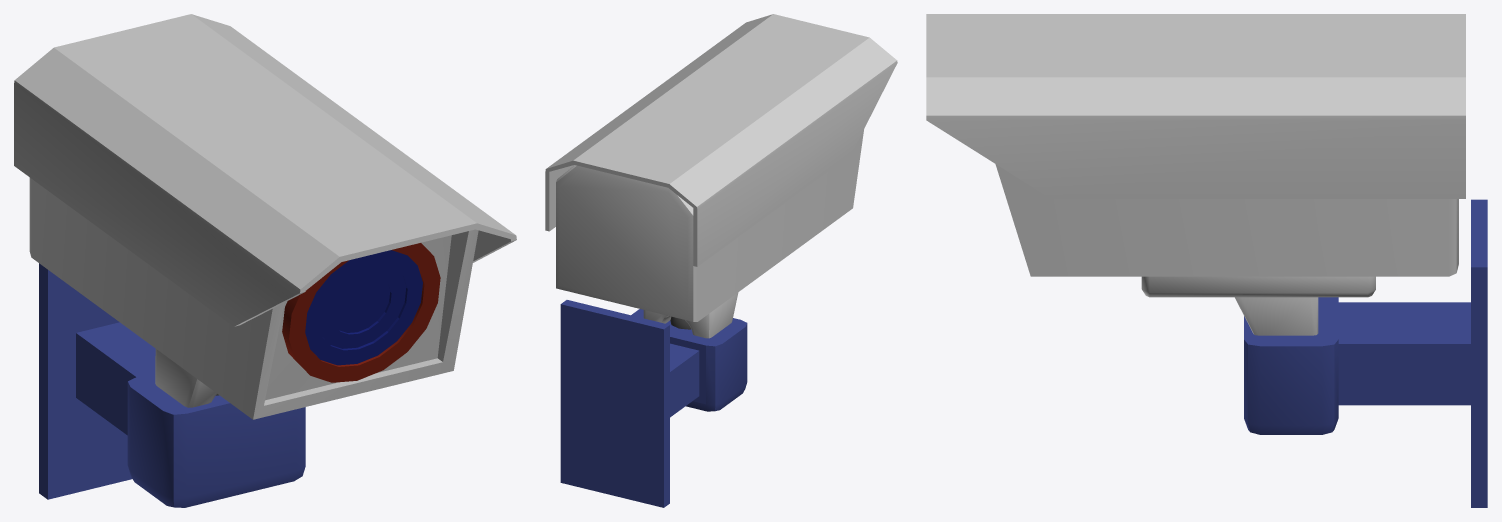
File: security_cam.fbx
3 renders of one model, left to right at view 1: azimuth 30°, elevation 25°; view 2: azimuth 150°, elevation 25°; view 3: azimuth 270°, elevation 25°, orthographic. The views are drawn at different scales.
Parts seen in each view (by area): view 1: Line002, Box002, Shape001, Tube001; view 2: Line002, Box002; view 3: Line002, Box002.
Boxes of the visible parts, x1,y1,x2,y2 form: Line002: (14,14,516,419); Box002: (39,263,305,507); Shape001: (305,250,422,365); Tube001: (282,243,440,382); Line002: (545,14,897,338); Box002: (560,300,747,507); Line002: (926,14,1465,335); Box002: (1244,199,1487,507).
Size of the model in its own units: 79.68 by 159 by 189.
